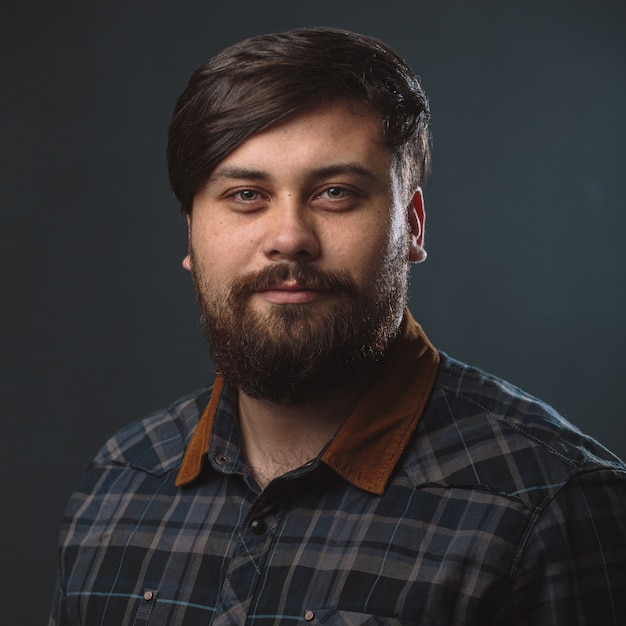young: (165, 40, 436, 357)
